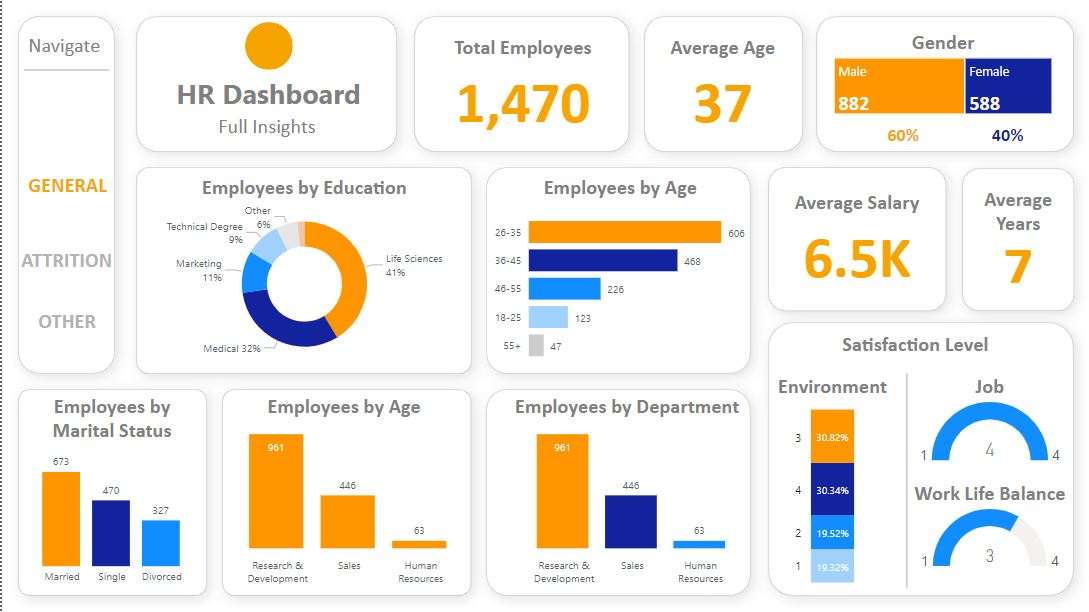

This screenshot's page, from the dashboard's own definition file:
{"tool":"powerbi","page":{"name":"general","canvas":[1280,720],"ordinal":0},"visuals":[{"type":"shape","box":[0,0,151.4,458.6],"z":0},{"type":"shape","box":[138.8,0,345,197.5],"z":1000},{"type":"shape","box":[938.8,0,341.2,197.5],"z":2000},{"type":"shape","box":[466.2,0,291.2,197.5],"z":3000},{"type":"shape","box":[138.6,177.1,432.9,281.4],"z":4000},{"type":"shape","box":[550.8,177.2,349.2,281.2],"z":5000},{"type":"shape","box":[882.5,177.5,247.5,207.5],"z":6000},{"type":"shape","box":[882.5,360,397.5,360],"z":7000},{"type":"shape","box":[550.8,439.1,349.2,281.2],"z":8000},{"type":"textbox","box":[200.4,82.5,235.8,55.8],"z":9000},{"type":"textbox","box":[249.7,128.6,141.2,41.1],"z":10000},{"type":"shape","box":[285.6,25.9,56.5,56.5],"z":11000},{"type":"textbox","box":[25.5,33.2,109.1,49.1],"z":12000},{"type":"shape","box":[25.7,53.9,100.1,56.5],"z":13000},{"type":"textbox","box":[25.7,197.1,112.9,41.4],"z":14000},{"type":"card","title":"Total Employees","fields":{"Values":["All Measures.Total Emp"]},"box":[505,40,216.2,117.5],"z":15000},{"type":"shape","box":[0,438.8,260,281.2],"z":16000},{"type":"donutChart","title":"Employees by Education","fields":{"Category":["HR_Analytics.EducationField"],"Y":["Sum(HR_Analytics.EmployeeCount)"]},"box":[156.2,205,398.8,230],"z":17000},{"type":"card","title":"Average Salary","fields":{"Values":["Avg(HR_Analytics.MonthlyIncome)"]},"box":[925,222.5,162.5,117.5],"z":18000},{"type":"clusteredBarChart","title":"Employees by Age","fields":{"Category":["HR_Analytics.AgeGroup"],"Y":["Sum(HR_Analytics.EmployeeCount)"]},"box":[571.2,205,311.2,233.8],"z":19000},{"type":"columnChart","title":"Employees by Department","fields":{"Category":["HR_Analytics.Department"],"Y":["Sum(HR_Analytics.EmployeeCount)"]},"box":[580,462.5,311.2,233.8],"z":20000},{"type":"gauge","title":"Work Life Balance","fields":{"MaxValue":["Max(HR_Analytics.WorkLifeBalance)"],"Y":["Median(HR_Analytics.WorkLifeBalance)"],"MinValue":["Min(HR_Analytics.WorkLifeBalance)1"]},"box":[1065,565,195,111.2],"z":21000},{"type":"hundredPercentStackedColumnChart","title":"Environment","fields":{"Category":["HR_Analytics.EmployeeCount"],"Y":["All Measures.EnvironmentSatisfactionCount1","All Measures.EnvironmentSatisfactionCount2","All Measures.EnvironmentSatisfactionCount4","All Measures.EnvironmentSatisfactionCount3"]},"box":[856.2,438.8,241.2,252.5],"z":22000},{"type":"columnChart","title":"Employees by Marital Status","fields":{"Category":["HR_Analytics.MaritalStatus"],"Y":["Sum(HR_Analytics.EmployeeCount)"]},"box":[18.8,462.5,221.2,233.8],"z":23000},{"type":"shape","box":[736.2,0,225,197.5],"z":24000},{"type":"card","title":"Average Age","fields":{"Values":["Avg(HR_Analytics.Age)"]},"box":[740,40,216.2,117.5],"z":25000},{"type":"gauge","title":"Job ","fields":{"Y":["Count(HR_Analytics.JobSatisfaction)"],"MinValue":["Min(HR_Analytics.JobSatisfaction)"],"MaxValue":["Max(HR_Analytics.JobSatisfaction)"]},"box":[1065,438.8,195,112.5],"z":26000},{"type":"textbox","box":[983.8,385,193.8,45],"z":27000},{"type":"shape","box":[1038.8,438.8,51.2,252.5],"z":28000},{"type":"shape","box":[1110,178.8,170,206.2],"z":29000},{"type":"treemap","title":"Gender","fields":{"Values":["Sum(HR_Analytics.EmployeeCount)"],"Group":["HR_Analytics.Gender"]},"box":[973.8,33.8,266.2,105],"z":30000},{"type":"card","title":"Average Years","fields":{"Values":["Avg(HR_Analytics.YearsAtCompany)"]},"box":[1130,218.8,130,118.8],"z":31000},{"type":"card","title":"Average Age","fields":{"Values":["All Measures.% male"]},"box":[1026.2,120,68.8,77.5],"z":32000},{"type":"card","title":"Average Age","fields":{"Values":["All Measures.% female"]},"box":[1151.2,120,62.5,77.5],"z":33000},{"type":"shape","box":[240,438.8,331.2,281.2],"z":34000},{"type":"columnChart","title":"Employees by Age","fields":{"Category":["HR_Analytics.Department"],"Y":["CountNonNull(HR_Analytics.TrainingTimesLastYear)"]},"box":[240,462.5,325,233.8],"z":35000},{"type":"textbox","box":[17.5,286.2,130,41.2],"z":36000},{"type":"actionButton","title":"ATTRITION","box":[21.2,283.8,105,43.8],"z":37000},{"type":"textbox","box":[927.8,651.2,18.5,28.6],"z":38000},{"type":"textbox","box":[927.8,612.9,18.5,28.6],"z":39000},{"type":"textbox","box":[927.8,562.9,18.5,28.6],"z":40000},{"type":"textbox","box":[927.8,500.8,18.5,28.6],"z":41000},{"type":"textbox","box":[37.6,357.6,92.9,40],"z":42000},{"type":"actionButton","title":"ATTRITION","box":[24.7,355.3,104.7,43.5],"z":43000}]}

Visuals, with their boxes in screenshot pixels (x1, y1, x2, y2), scaled from the page's 1280x720 canvas onto the 1089x612 screenshot:
shape: 0,0,129,390
shape: 118,0,412,168
shape: 799,0,1088,168
shape: 397,0,644,168
shape: 118,151,486,390
shape: 469,151,766,390
shape: 751,151,961,327
shape: 751,306,1088,611
shape: 469,373,766,611
textbox: 170,70,371,118
textbox: 212,109,333,144
shape: 243,22,291,70
textbox: 22,28,115,70
shape: 22,46,107,94
textbox: 22,168,118,203
"Total Employees" card: 430,34,614,134
shape: 0,373,221,611
"Employees by Education" donutChart: 133,174,472,370
"Average Salary" card: 787,189,925,289
"Employees by Age" clusteredBarChart: 486,174,751,373
"Employees by Department" columnChart: 493,393,758,592
"Work Life Balance" gauge: 906,480,1072,575
"Environment" hundredPercentStackedColumnChart: 728,373,934,588
"Employees by Marital Status" columnChart: 16,393,204,592
shape: 626,0,818,168
"Average Age" card: 630,34,814,134
"Job " gauge: 906,373,1072,469
textbox: 837,327,1002,366
shape: 884,373,927,588
shape: 944,152,1088,327
"Gender" treemap: 828,29,1055,118
"Average Years" card: 961,186,1072,287
"Average Age" card: 873,102,932,168
"Average Age" card: 979,102,1033,168
shape: 204,373,486,611
"Employees by Age" columnChart: 204,393,481,592
textbox: 15,243,125,278
"ATTRITION" actionButton: 18,241,107,278
textbox: 789,554,805,578
textbox: 789,521,805,545
textbox: 789,478,805,503
textbox: 789,426,805,450
textbox: 32,304,111,338
"ATTRITION" actionButton: 21,302,110,339
